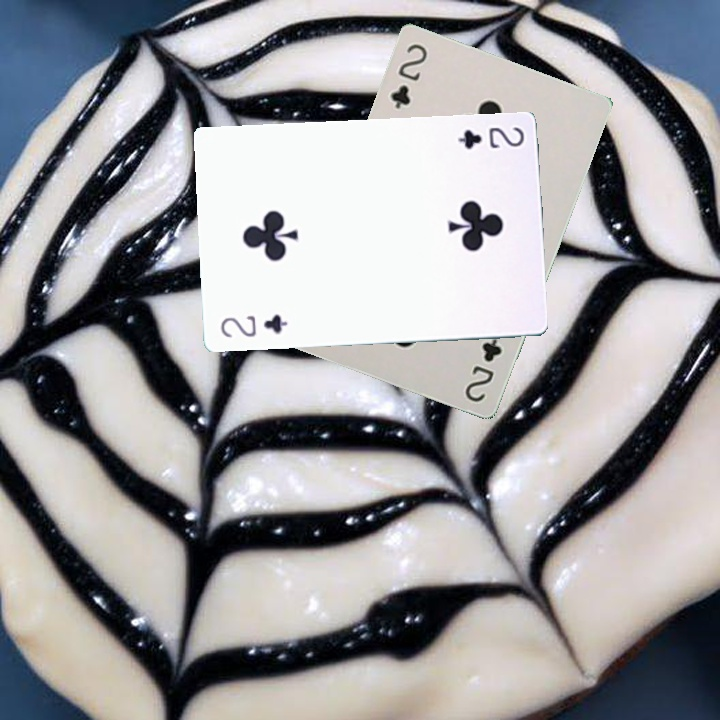2c: (386, 39, 430, 112), (460, 334, 504, 405), (217, 310, 290, 340), (454, 122, 526, 152)
